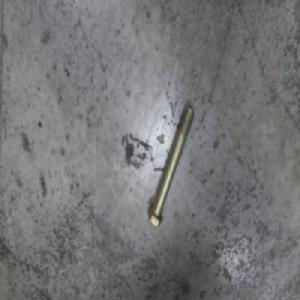Bolt: (147, 109, 194, 231)
